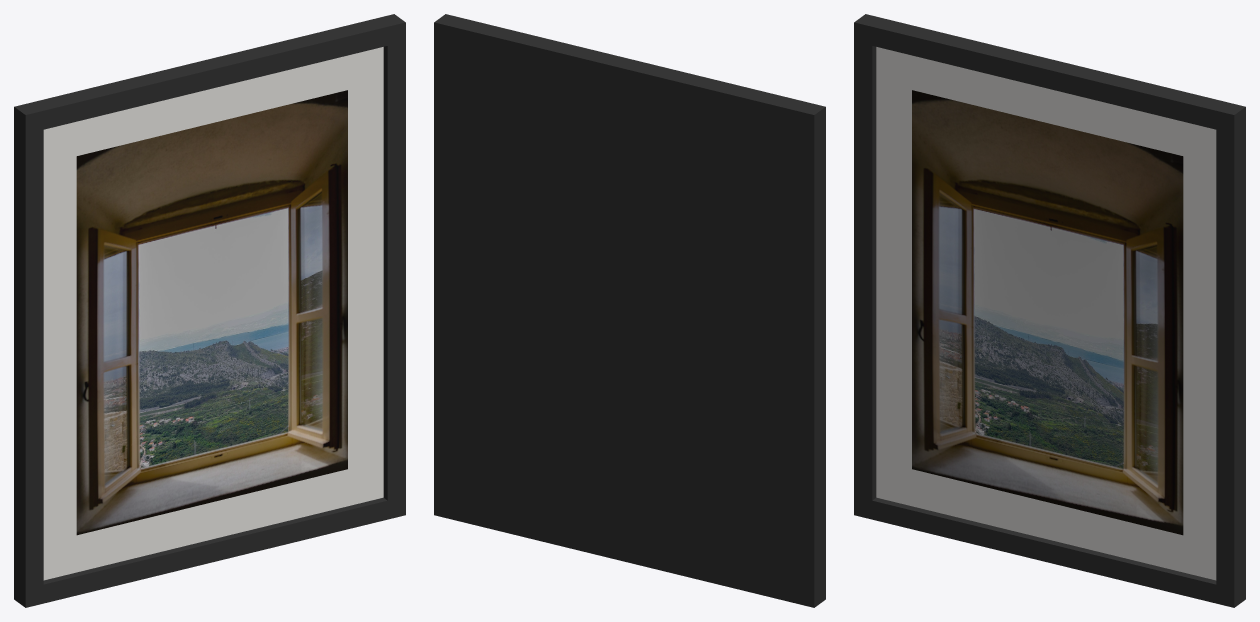
The model's file is fonstervy-40.gltf.
3 views of the same model, side by side, from view 1: azimuth 30°, elevation 25°; view 2: azimuth 150°, elevation 25°; view 3: azimuth 330°, elevation 25° (orthographic).
Parts seen in each view (by area): view 1: tavla; view 2: tavla; view 3: tavla.
Boxes of the visible parts, left/top/right/bottom form: tavla: left=14, top=14, right=405, bottom=607; tavla: left=434, top=14, right=825, bottom=607; tavla: left=854, top=14, right=1245, bottom=607.
Bounding box in the file's own units: 0.4198 × 0.52 × 0.022.
Materials: 3 (1 with a texture image).
